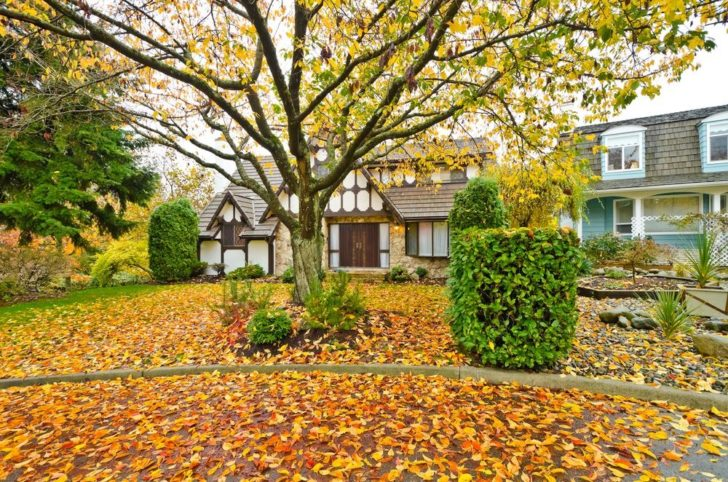bush: (449, 223, 575, 371), (141, 200, 204, 282)
tree: (1, 1, 691, 344)
